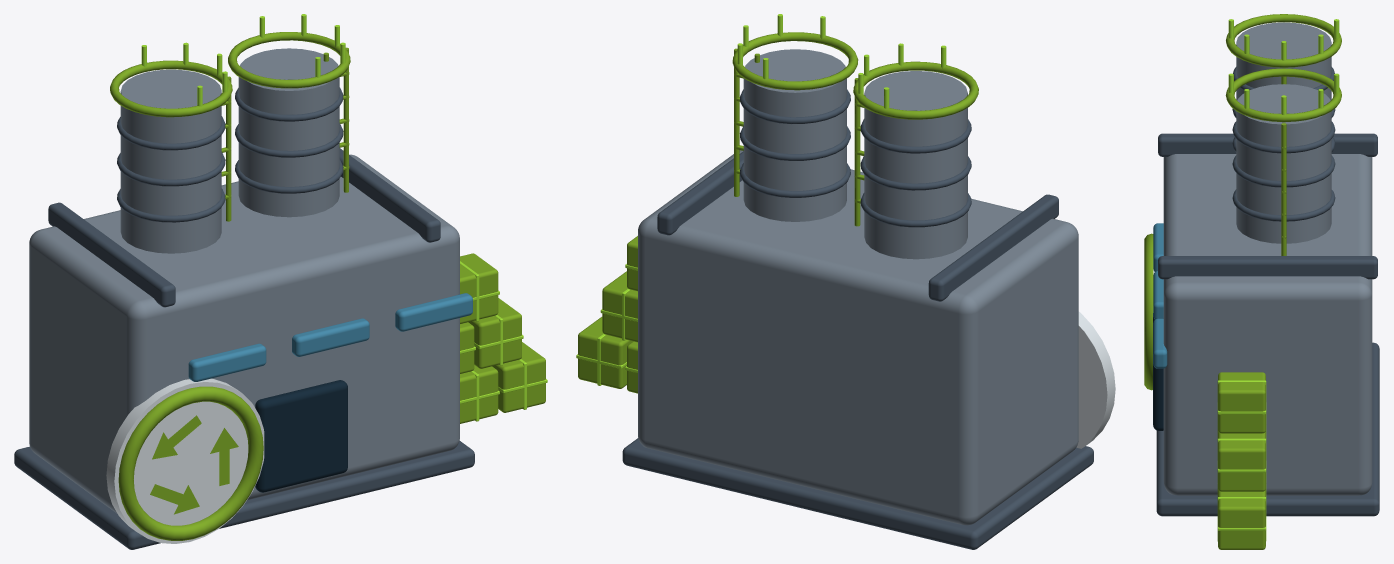
File: company-consumer-factory.glb
3 views of the same model, side by side, from view 1: azimuth 30°, elevation 25°; view 2: azimuth 150°, elevation 25°; view 3: azimuth 270°, elevation 25° (orthographic). The views are drawn at different scales.
Bounding box in the file's own units: 17.64 × 14.87 × 8.12.
